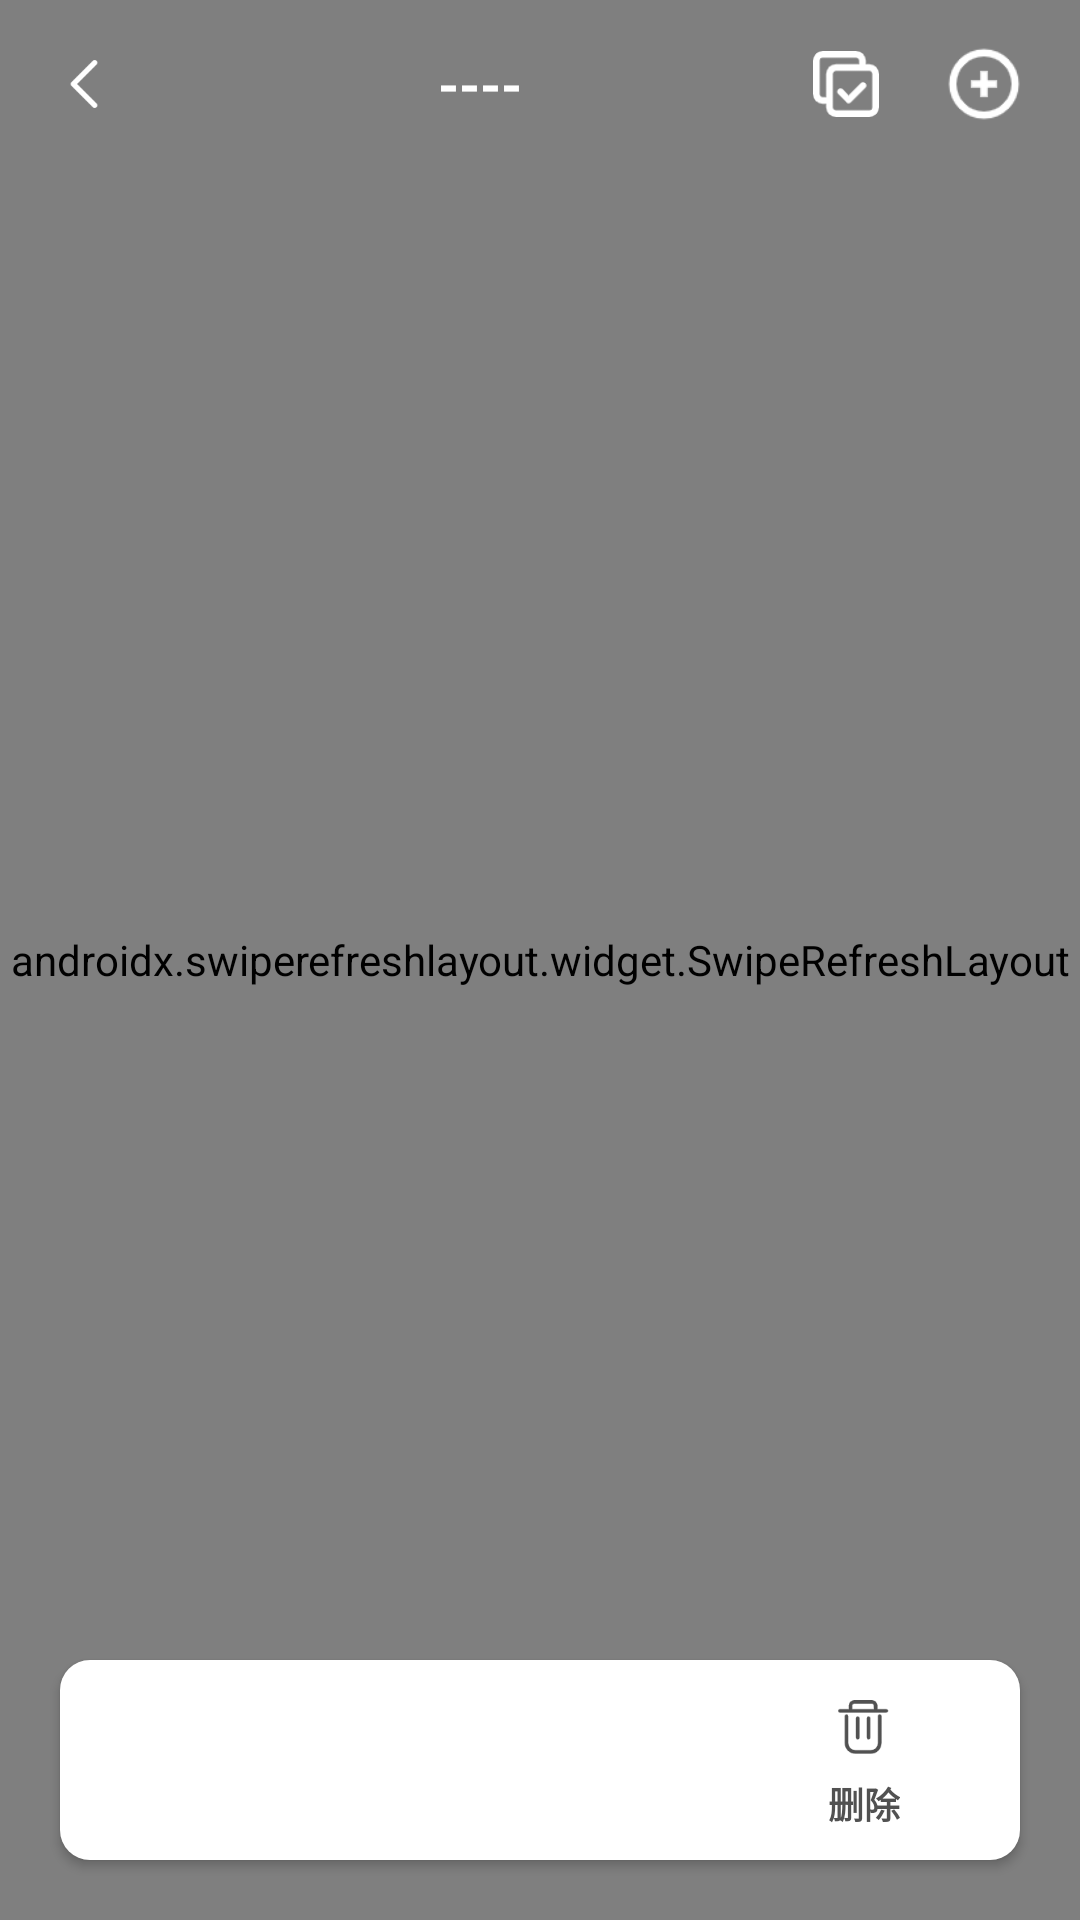

Named icons in this screenshot (1080px x 1920px) and their centers, (x,y):
select all: (846,84)
